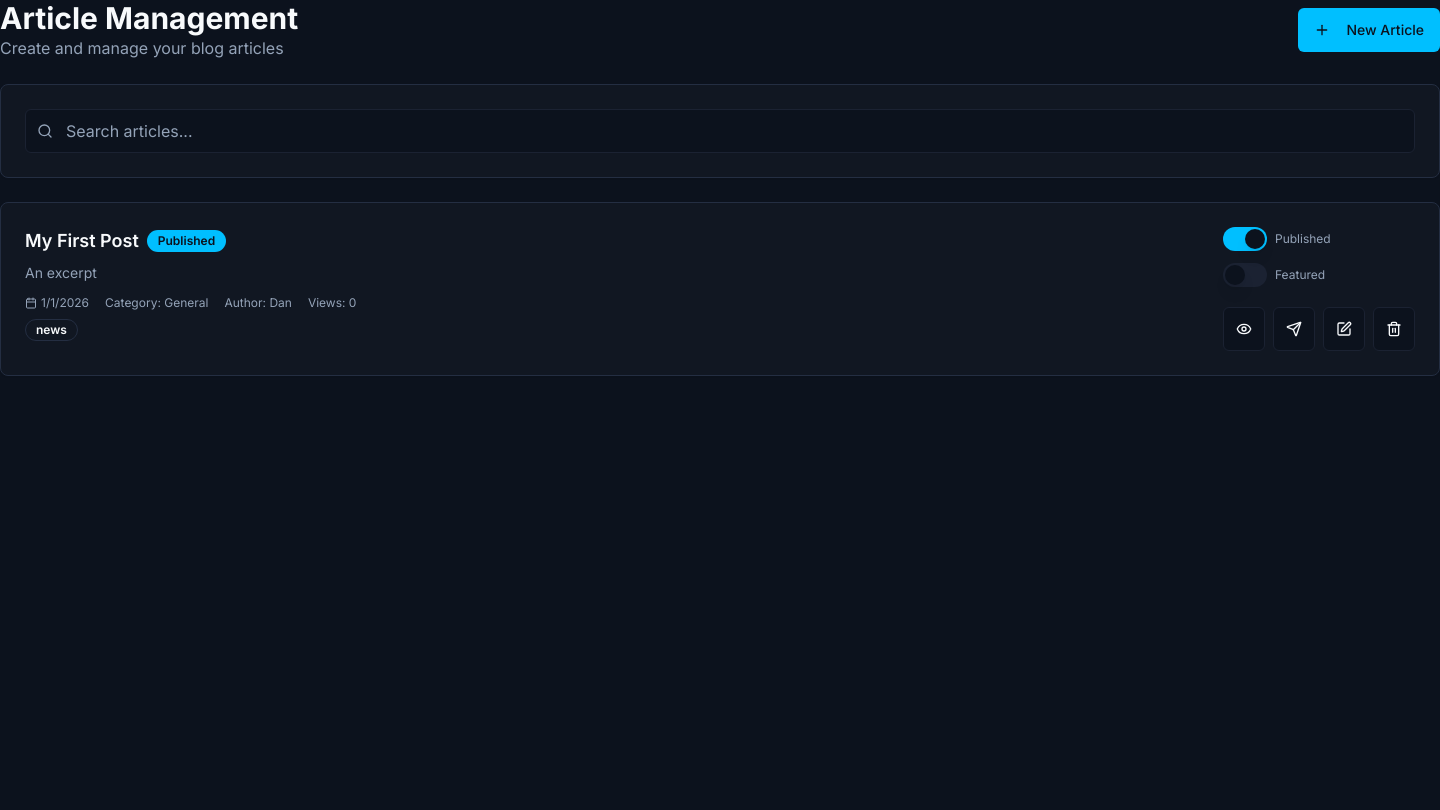
ArticleManager › populates the edit dialog with the selected article fields
Expected: the heading "My First Post" is shown, [25, 227, 139, 255]
Click the button named "Edit article": [1344, 329] box [1323, 307, 1365, 351]
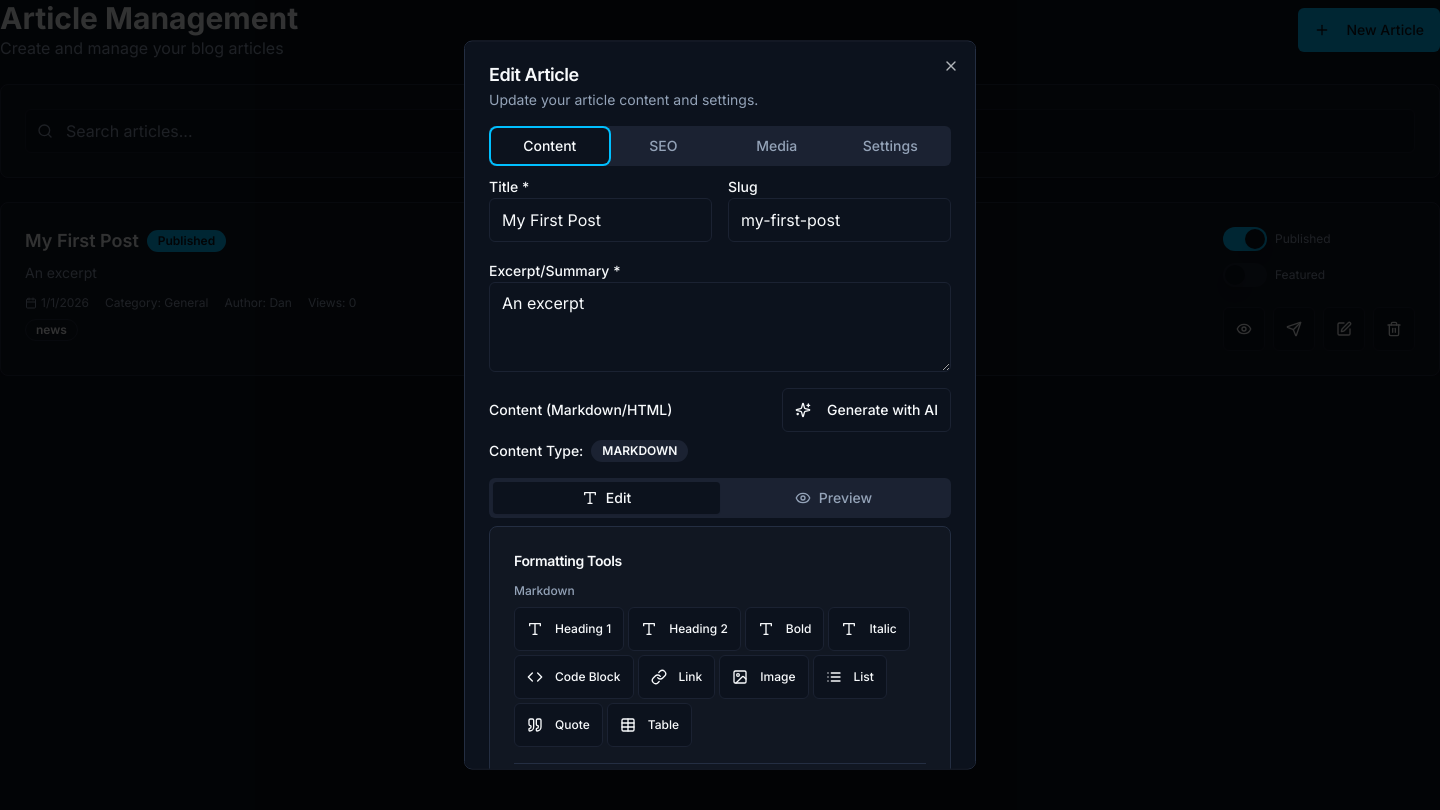
Now the field with placeholder "Enter article title" holds "My First Post", box [489, 198, 712, 242]
